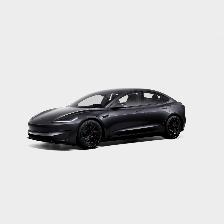EV: (28, 88, 188, 149)
